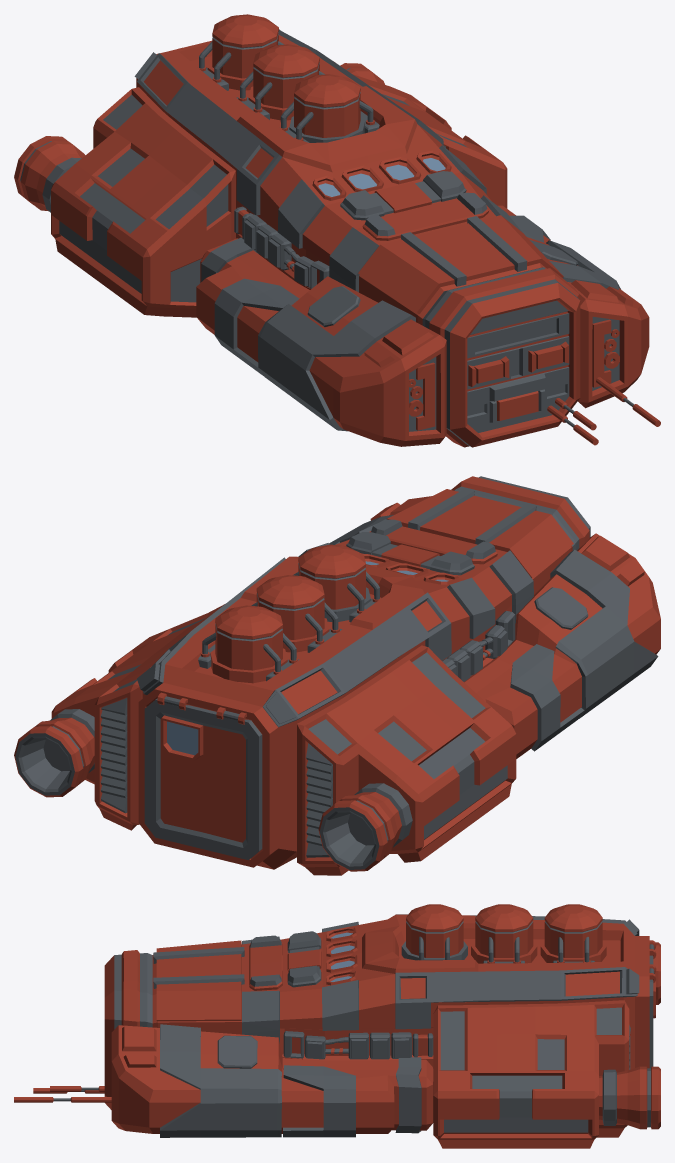
Rendered from Mothership_01_Red.fbx.
3 renders of one model, top to bottom at view 1: azimuth 30°, elevation 25°; view 2: azimuth 150°, elevation 25°; view 3: azimuth 270°, elevation 25°, orthographic. The views are drawn at different scales.
Visible parts, largest first — view 1: Mothership_01_Red; view 2: Mothership_01_Red; view 3: Mothership_01_Red.
Part boxes in pixels (left/top/right/bottom): Mothership_01_Red: left=14, top=14, right=660, bottom=447; Mothership_01_Red: left=14, top=476, right=660, bottom=875; Mothership_01_Red: left=14, top=904, right=660, bottom=1148.
Bounding box in the file's own units: 4176 × 2438 × 7543.
3 materials, 3 textured.
